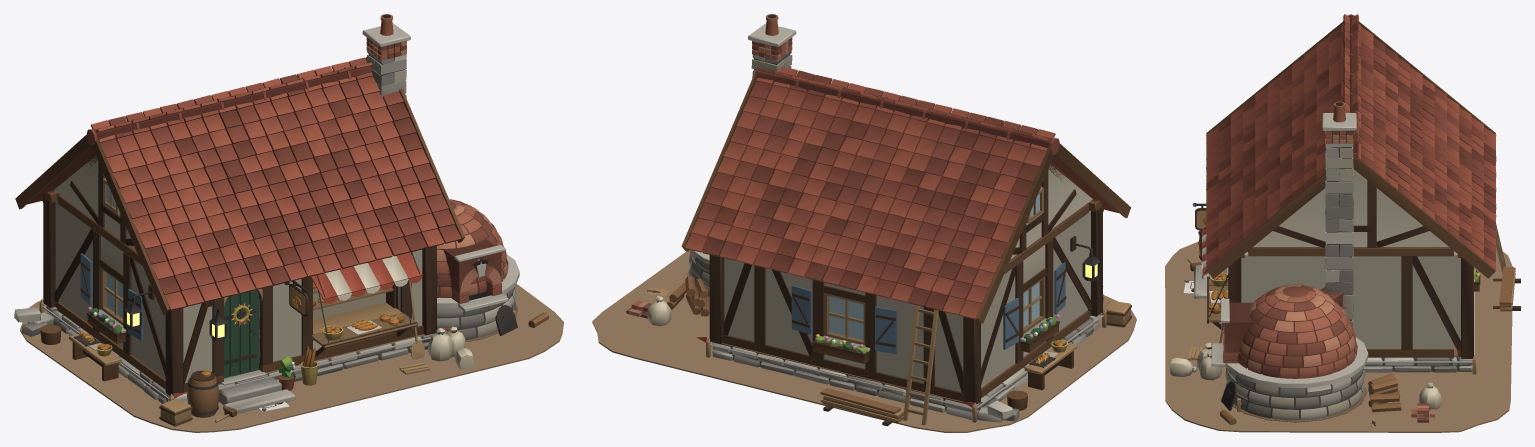
Rendered from bakery.glb.
The picture shows the model from 3 angles, left to right: view 1: azimuth 30°, elevation 25°; view 2: azimuth 150°, elevation 25°; view 3: azimuth 270°, elevation 25°; orthographic projection. The views are drawn at different scales.
Visible parts, largest first — view 1: stage_09_mesh, stage_01_mesh, stage_05_mesh, stage_04_mesh, stage_08_mesh, stage_06_mesh, stage_14_mesh, stage_07_mesh, stage_02_mesh, awning, stage_13_mesh, stage_10_mesh (+3 smaller); view 2: stage_09_mesh, stage_05_mesh, stage_04_mesh, stage_01_mesh, stage_08_mesh, stage_02_mesh, stage_13_mesh, stage_14_mesh, stage_10_mesh, stage_03_mesh, stage_11_mesh; view 3: stage_09_mesh, stage_01_mesh, stage_05_mesh, stage_06_mesh, stage_04_mesh, stage_03_mesh, stage_10_mesh, stage_02_mesh, stage_11_mesh, stage_14_mesh, stage_12_mesh, stage_08_mesh (+2 smaller).
Part boxes in pixels (x1,y1,x2,y2): stage_09_mesh: (15, 57, 464, 314); stage_01_mesh: (20, 283, 563, 432); stage_05_mesh: (53, 156, 422, 384); stage_04_mesh: (42, 153, 436, 395); stage_08_mesh: (80, 178, 417, 357); stage_06_mesh: (437, 199, 508, 311); stage_14_mesh: (73, 284, 474, 426); stage_07_mesh: (218, 288, 295, 413); stage_02_mesh: (14, 306, 433, 403); awning: (311, 252, 422, 303); stage_13_mesh: (69, 281, 308, 390); stage_10_mesh: (362, 14, 410, 97); stage_09_mesh: (681, 66, 1130, 323); stage_05_mesh: (723, 165, 1092, 393); stage_04_mesh: (709, 162, 1103, 426); stage_01_mesh: (592, 250, 1136, 432); stage_08_mesh: (791, 187, 1066, 354); stage_02_mesh: (712, 314, 1100, 422); stage_13_mesh: (812, 314, 1077, 390); stage_14_mesh: (647, 236, 1131, 367); stage_10_mesh: (748, 14, 796, 77); stage_03_mesh: (626, 250, 709, 318); stage_11_mesh: (667, 276, 709, 316); stage_09_mesh: (1206, 14, 1496, 278); stage_01_mesh: (1165, 242, 1512, 432); stage_05_mesh: (1241, 169, 1460, 350); stage_06_mesh: (1211, 284, 1357, 378); stage_04_mesh: (1228, 180, 1520, 358); stage_03_mesh: (1222, 337, 1434, 425); stage_10_mesh: (1320, 101, 1356, 329); stage_02_mesh: (1364, 251, 1472, 372); stage_11_mesh: (1219, 298, 1401, 424); stage_14_mesh: (1170, 230, 1441, 410); stage_12_mesh: (1208, 272, 1228, 314); stage_08_mesh: (1207, 251, 1474, 329).
Size of the model in its own units: 10.08 by 6.56 by 7.65.
